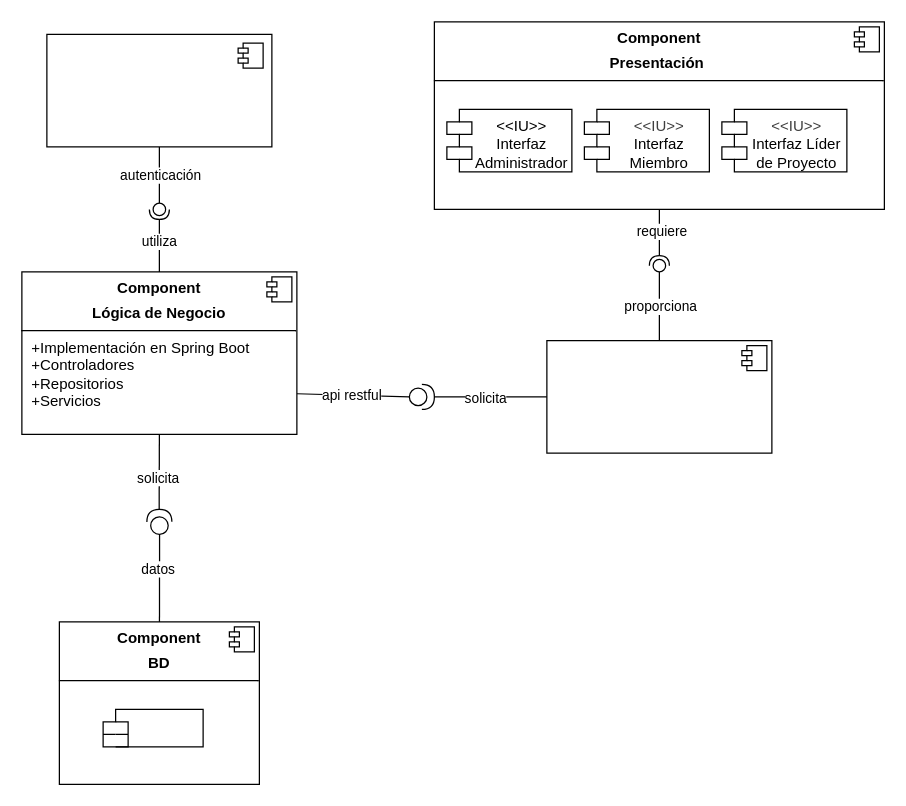
The diagram is 906 pixels wide and 806 high, and some of its shapes have lost their labels. Here are the shapes that lost their labels. From the top down, the centre of each, then its label:
point 159,90: «utiiliza» Google OAuth 2.0
point 659,396: Component Angular
point 152,727: MySQL
